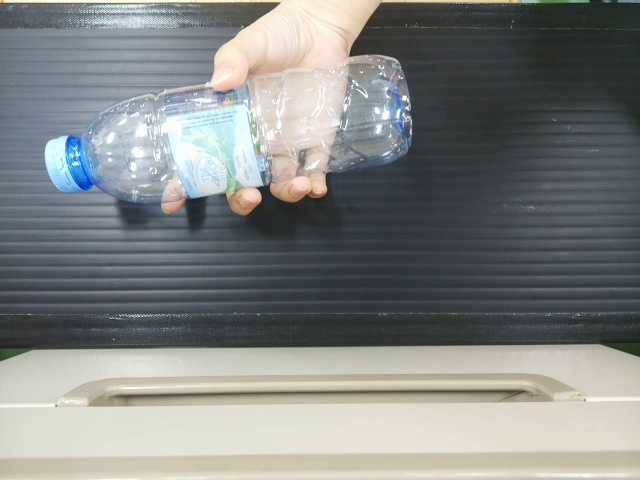bottle: (42, 62, 413, 201)
